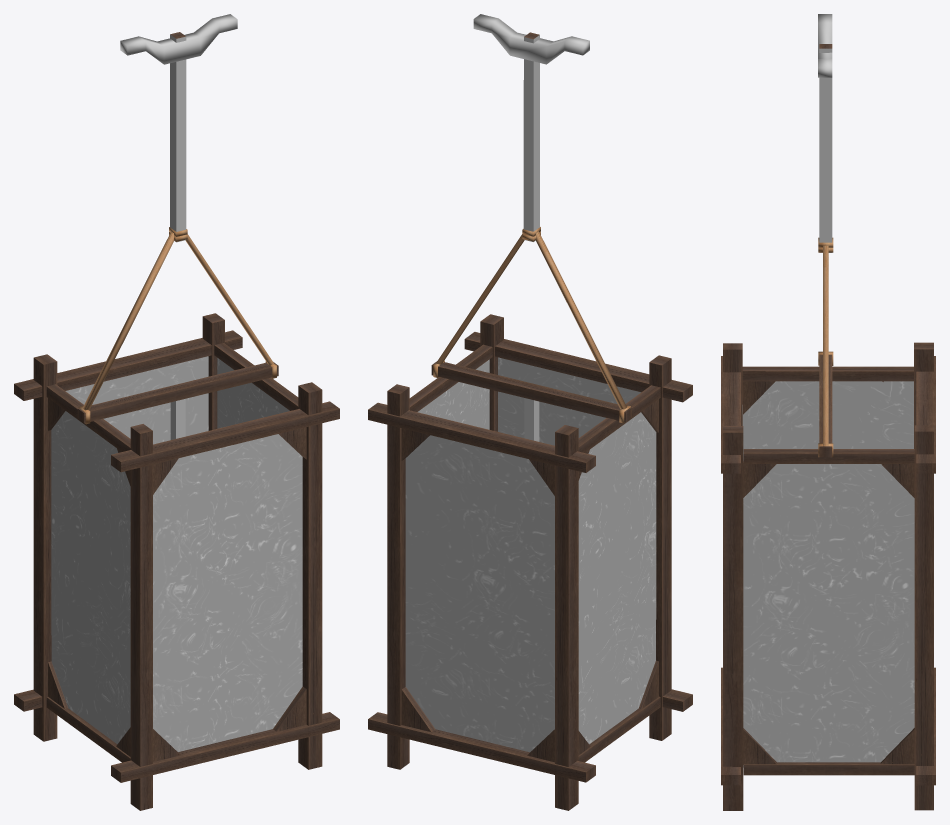
The model's file is jov_andon04.fbx.
3 views of the same model, side by side, from view 1: azimuth 30°, elevation 25°; view 2: azimuth 150°, elevation 25°; view 3: azimuth 270°, elevation 25° (orthographic).
Visible parts, largest first — view 1: jov_andon04; view 2: jov_andon04; view 3: jov_andon04.
Boxes of the visible parts, <box> form: jov_andon04: <box>14,14,339,810</box>; jov_andon04: <box>368,14,692,810</box>; jov_andon04: <box>721,14,935,810</box>.
Bounding box in the file's own units: 36.43 × 115 × 30.81.
